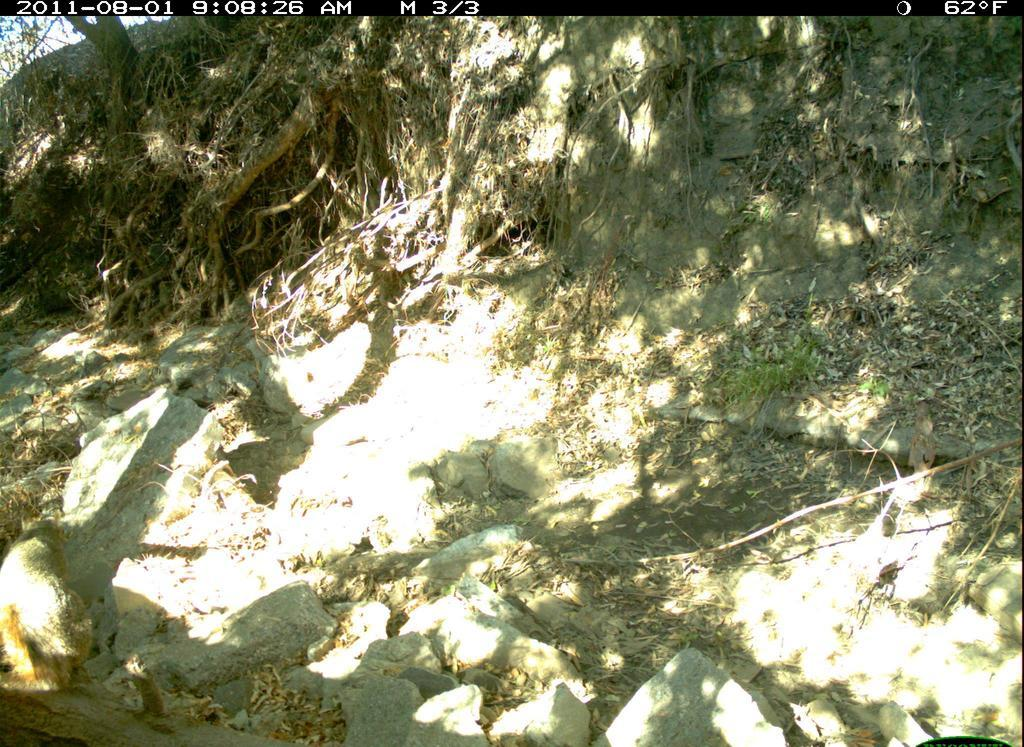squirrel: (4, 493, 109, 705)
